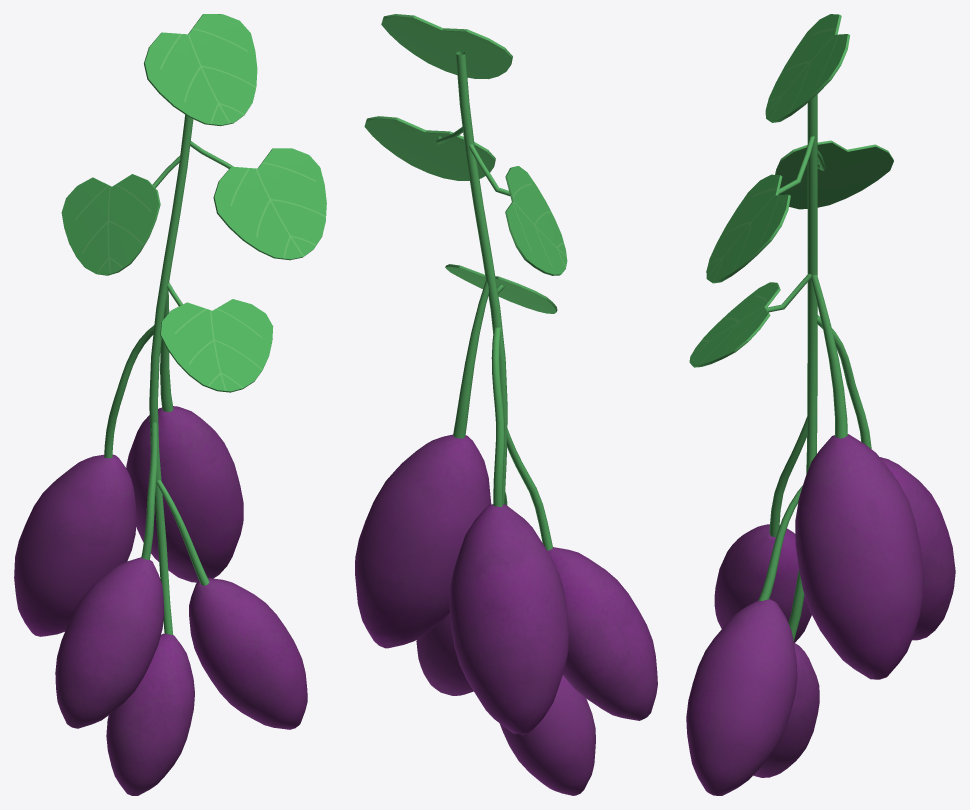
File: F_Satumaimo.fbx
3 views of the same model, side by side, from view 1: azimuth 30°, elevation 25°; view 2: azimuth 150°, elevation 25°; view 3: azimuth 270°, elevation 25° (orthographic). The views are drawn at different scales.
Visible parts, largest first — view 1: satumaimo2, satumaimo3, satumaimo, satumaimo1, pCylinder2, pCylinder3, satumaimo4, pCylinder5, pCylinder4, sweep5, sweep7, sweep8 (+2 smaller); view 2: satumaimo2, satumaimo3, satumaimo, satumaimo4, pCylinder2, pCylinder3, pCylinder4, sweep5, satumaimo1, pCylinder5, sweep7, sweep6 (+1 smaller); view 3: satumaimo3, satumaimo1, satumaimo, satumaimo2, pCylinder4, pCylinder2, pCylinder3, sweep5, satumaimo4, pCylinder5, sweep6, sweep7 (+2 smaller).
Part boxes in pixels (x1,y1,x2,y2): satumaimo2: (14,454,136,636); satumaimo3: (126,406,243,582); satumaimo: (55,557,164,728); satumaimo1: (189,578,307,729); pCylinder2: (144,14,257,126); pCylinder3: (213,148,326,260); satumaimo4: (106,633,194,795); pCylinder5: (160,299,273,392); pCylinder4: (61,174,160,275); sweep5: (149,115,193,634); sweep7: (104,325,154,458); sweep8: (141,422,157,559); satumaimo2: (449,504,569,734); satumaimo3: (355,434,491,648); satumaimo: (547,547,657,720); satumaimo4: (499,675,595,795); pCylinder2: (381,14,512,79); pCylinder3: (364,116,495,180); pCylinder4: (505,166,567,275); sweep5: (455,51,507,504); satumaimo1: (416,613,473,695); pCylinder5: (445,264,557,313); sweep7: (491,327,504,506); sweep6: (453,281,488,438); satumaimo3: (795,434,923,679); satumaimo1: (686,599,797,795); satumaimo: (714,524,811,642); satumaimo2: (880,457,955,640); pCylinder4: (775,140,893,209); pCylinder2: (765,14,849,122); pCylinder3: (706,174,790,283); sweep5: (788,94,817,641); satumaimo4: (753,642,819,777); pCylinder5: (689,282,780,367); sweep6: (811,274,847,438); sweep7: (817,315,871,448).
Size of the model in its own units: 3.45 by 9.08 by 2.77.
